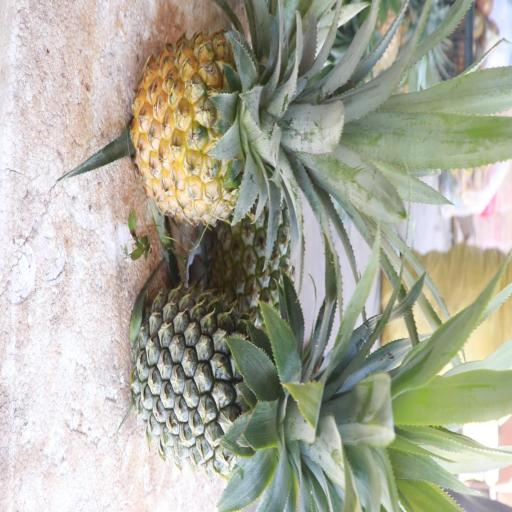Pineapple - v8 v1: (126, 23, 433, 236)
